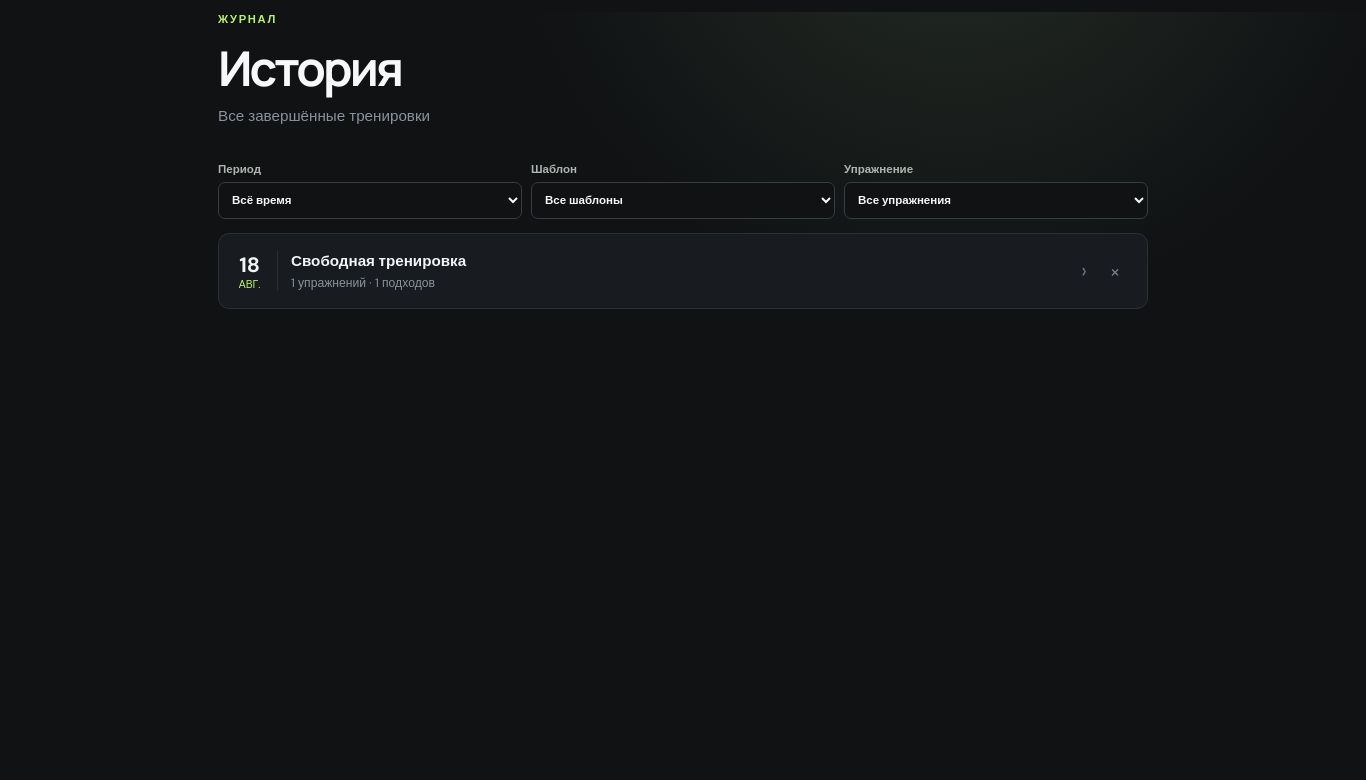
Scenario: HistoryPage › does not save semantically invalid set values
The width and height of the screenshot is (1366, 780).
Click the button with aria-label "Открыть тренировку Свободная тренировка" at (257, 271), box [236, 251, 1087, 291]
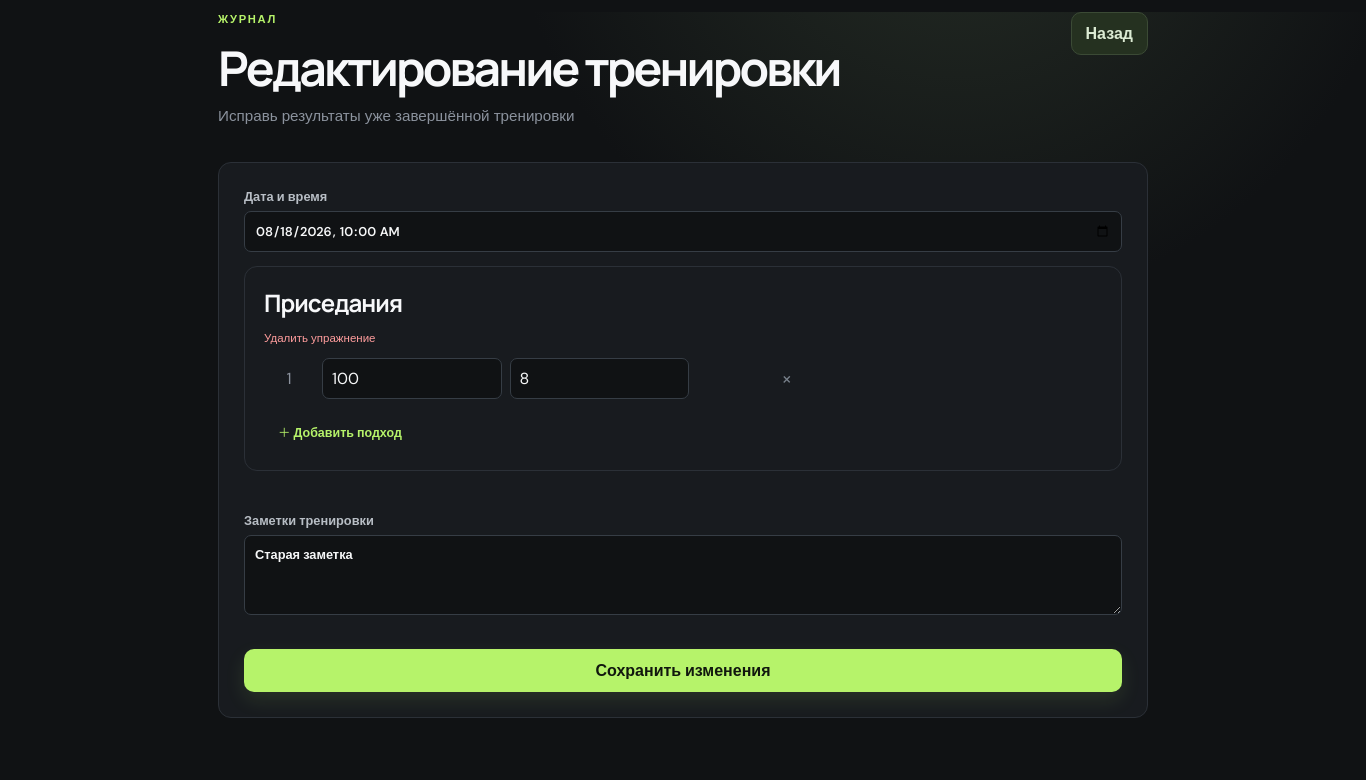
Replace the text in the number field named "Повторы подхода 1 для Приседания" with "7.5" at (599, 378), box [510, 358, 689, 399]
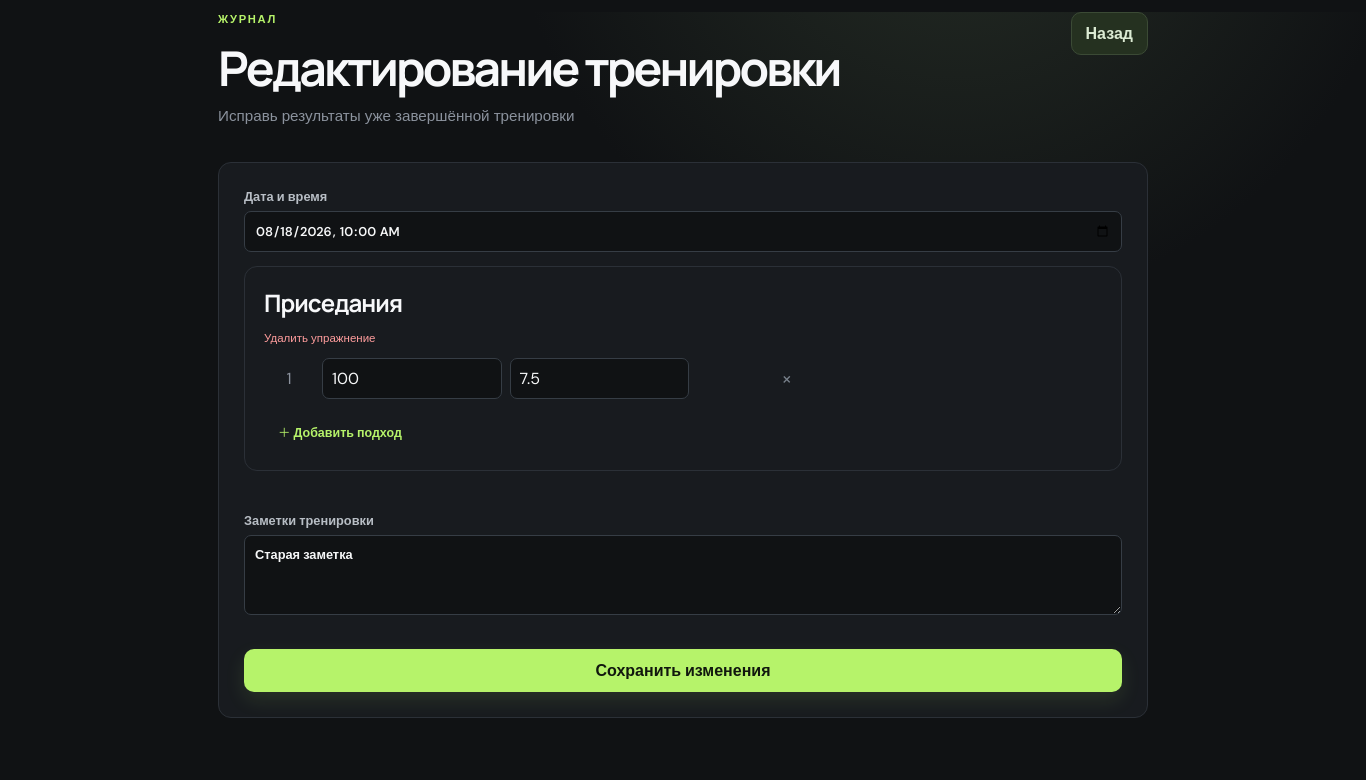
Click the button "Сохранить изменения" at (683, 670), box [244, 649, 1122, 692]
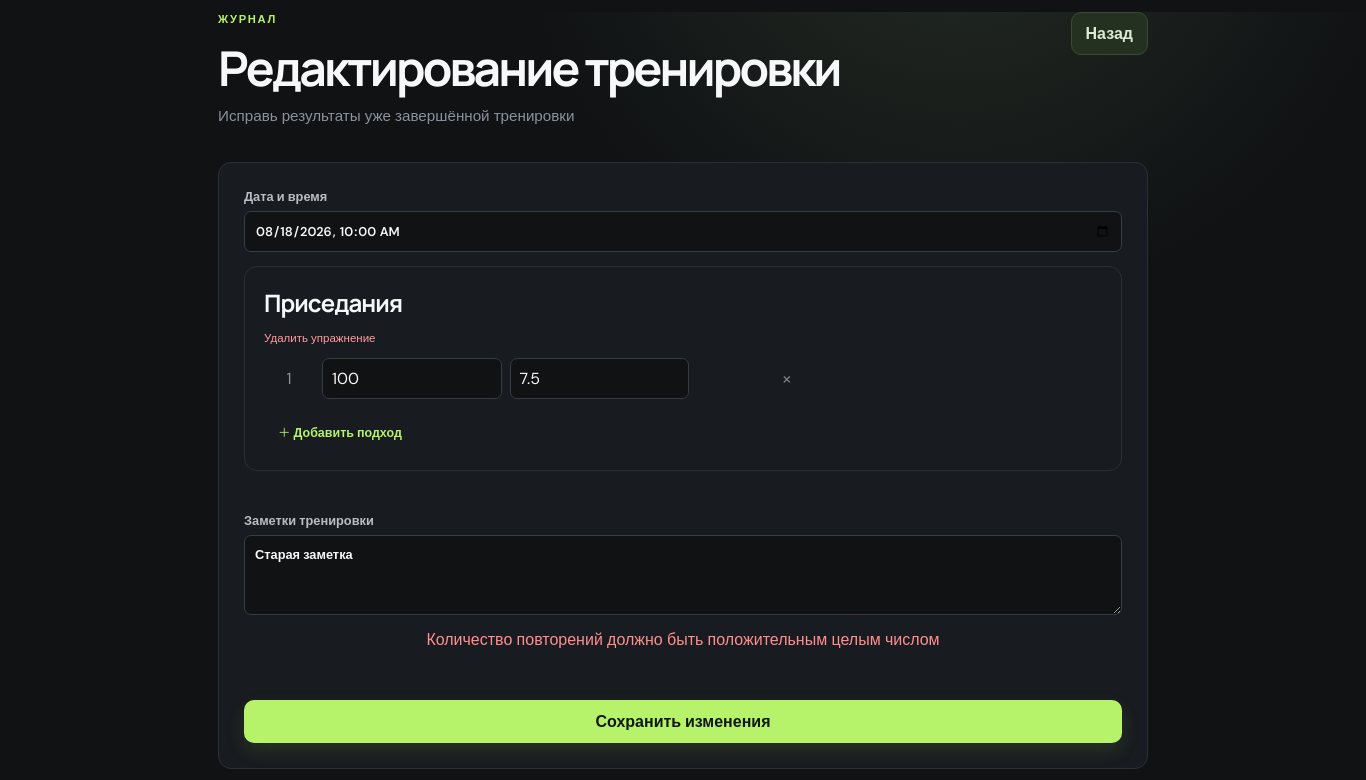
Check: the message shows "Количество повторений", box [426, 629, 940, 650]
